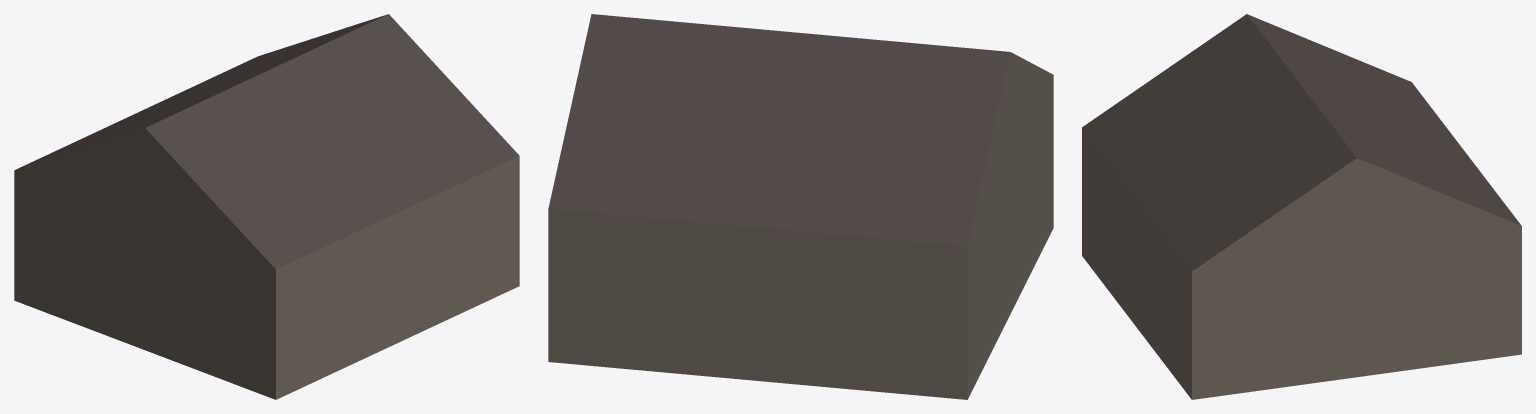
3 renders of one model, left to right at view 1: azimuth 30°, elevation 25°; view 2: azimuth 150°, elevation 25°; view 3: azimuth 270°, elevation 25°, orthographic. The views are drawn at different scales.
Visible parts, largest first — view 1: HP-w369317577; view 2: HP-w369317577; view 3: HP-w369317577.
Boxes of the visible parts, x1,y1,x2,y2 form: HP-w369317577: [14, 14, 519, 399]; HP-w369317577: [548, 14, 1053, 399]; HP-w369317577: [1082, 14, 1521, 399].
Size of the model in its own units: 19 by 10.24 by 18.64.
